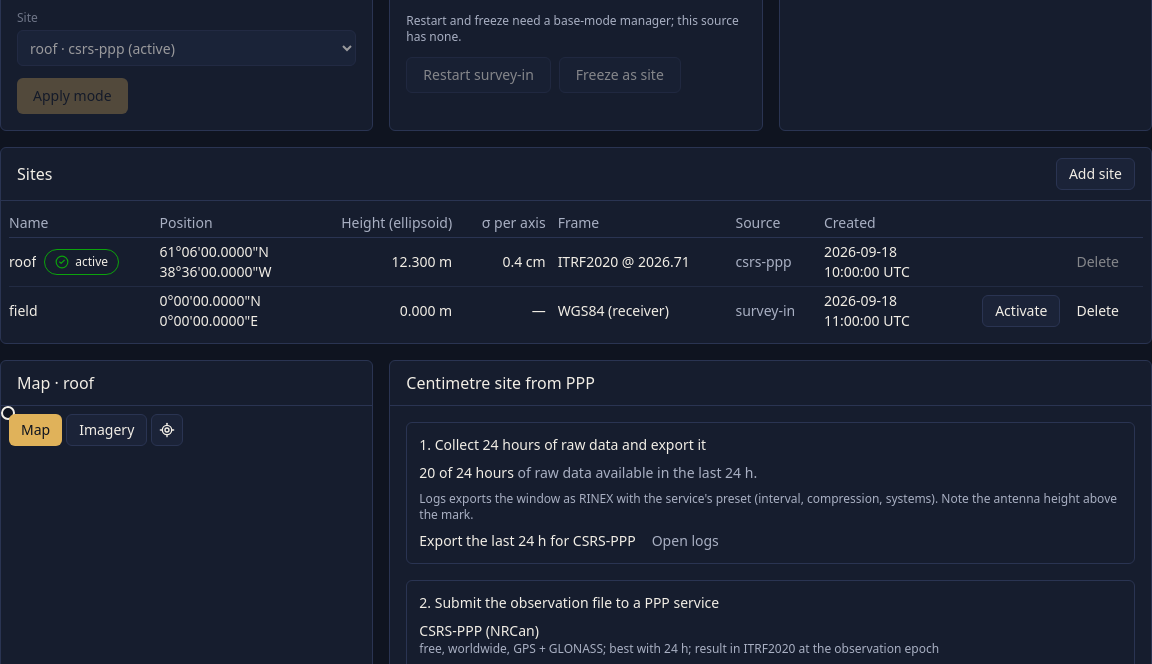
Test: Site page › words the activate confirmation for a source with no manager: no switch, no .env write
(page scrolled)
Click the button "Activate": (1021, 311) [982, 295, 1060, 327]
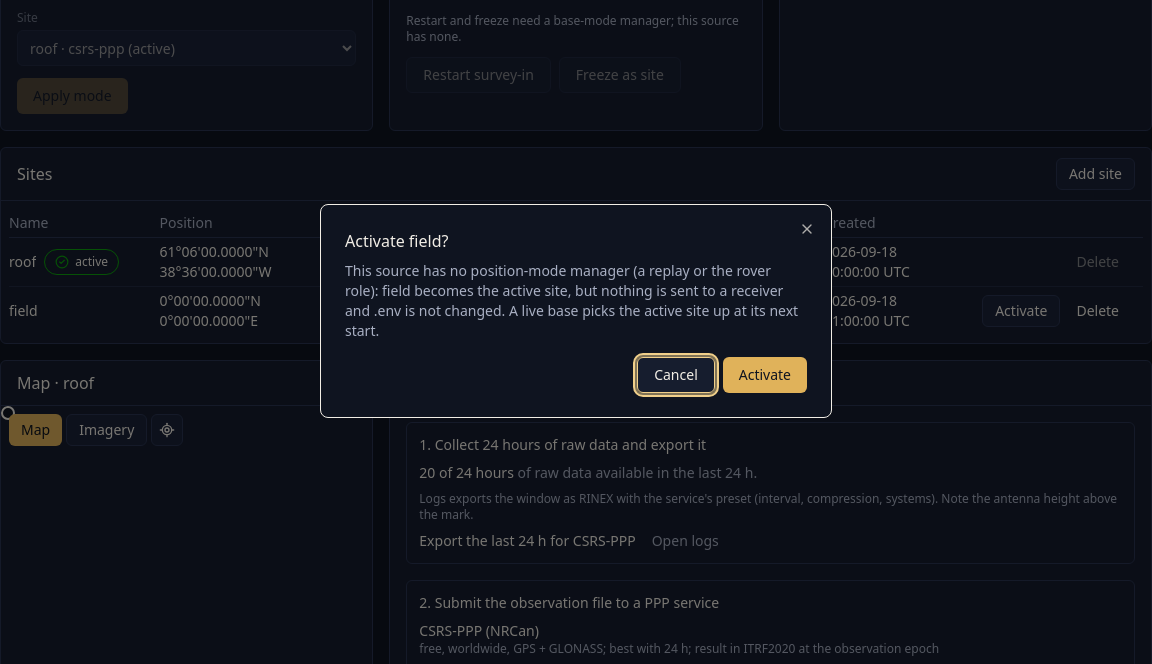
Expected: the dialog "Activate field" does not show "within 10 s", [320, 204, 832, 418]
Expected: the dialog "Activate field" shows "no position-mode manager", [345, 261, 798, 340]
Expected: the dialog "Activate field" shows "nothing is sent to a receiver", [345, 261, 798, 340]
